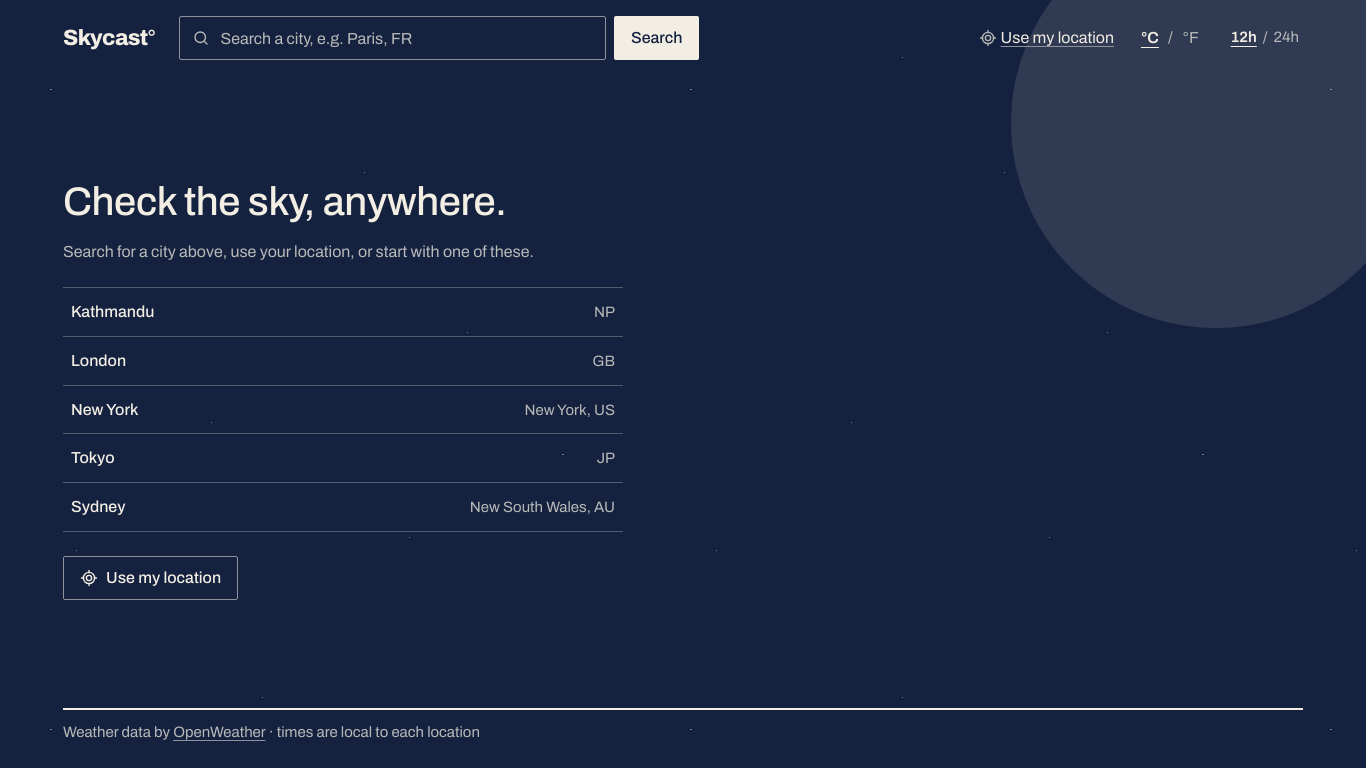
it: App › handles denied location permission gracefully
Click the button with aria-label "show weather for my location".
click(1046, 38)  # box [978,16,1114,60]
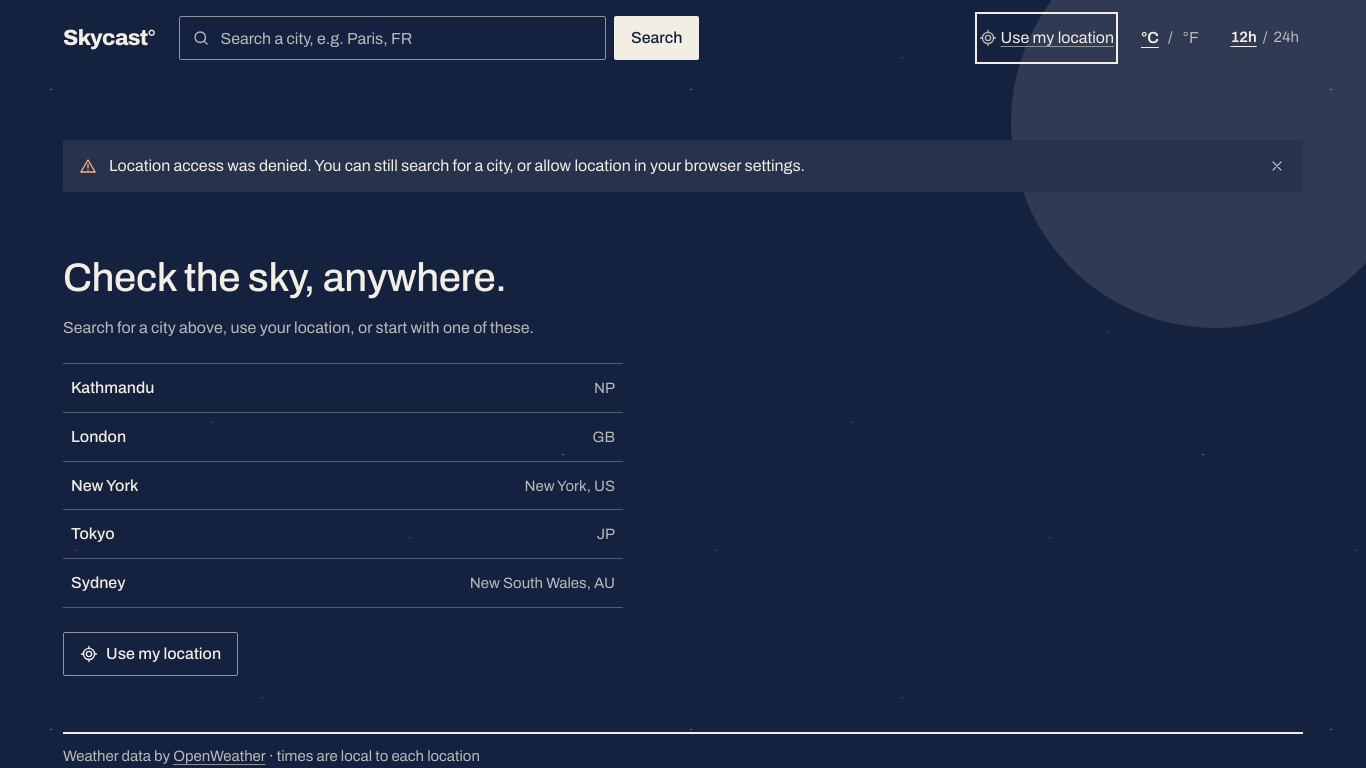
Check: the message shows "Location access was denied", box [109,157,805,174]
